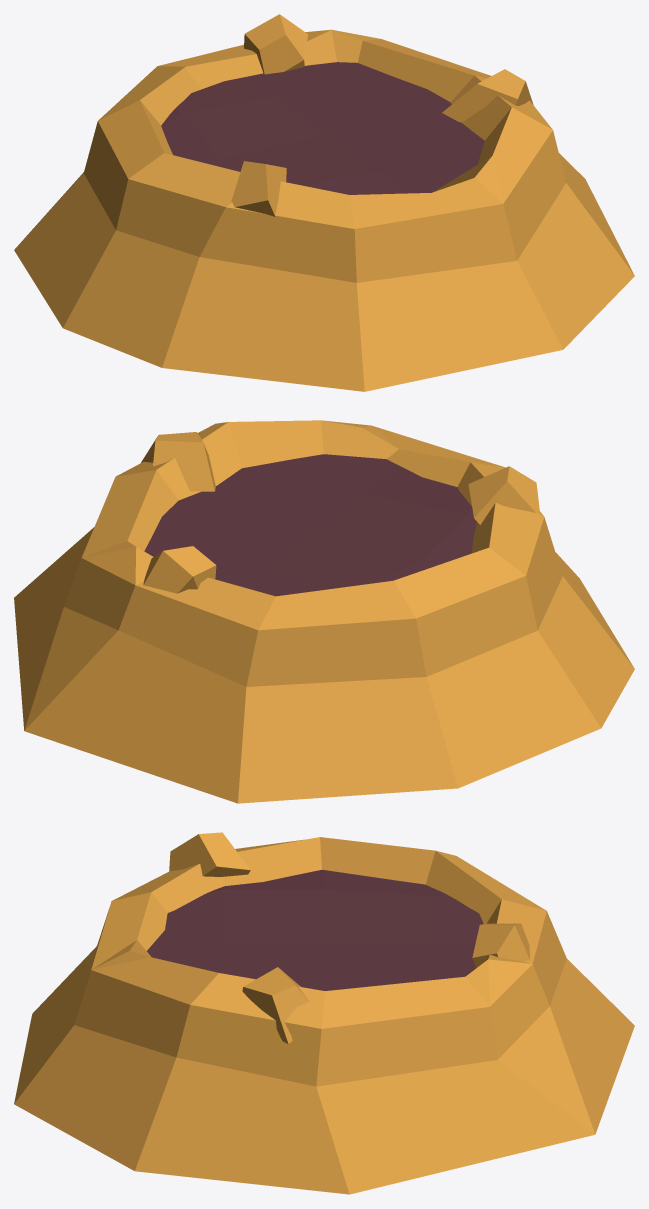
File: crater-water.fbx
3 views of the same model, one above another, from view 1: azimuth 30°, elevation 25°; view 2: azimuth 150°, elevation 25°; view 3: azimuth 270°, elevation 25° (orthographic). The views are drawn at different scales.
Visible parts, largest first — view 1: crater-water; view 2: crater-water; view 3: crater-water.
Boxes of the visible parts, box(x1,y1,x2,y2) form: crater-water: box(14, 14, 634, 391); crater-water: box(14, 420, 634, 803); crater-water: box(14, 832, 634, 1194).
Bounding box in the file's own units: 1.4 × 0.4228 × 1.38.
